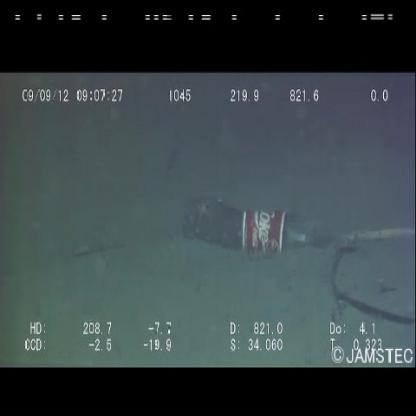Rác: (169, 190, 331, 269)
